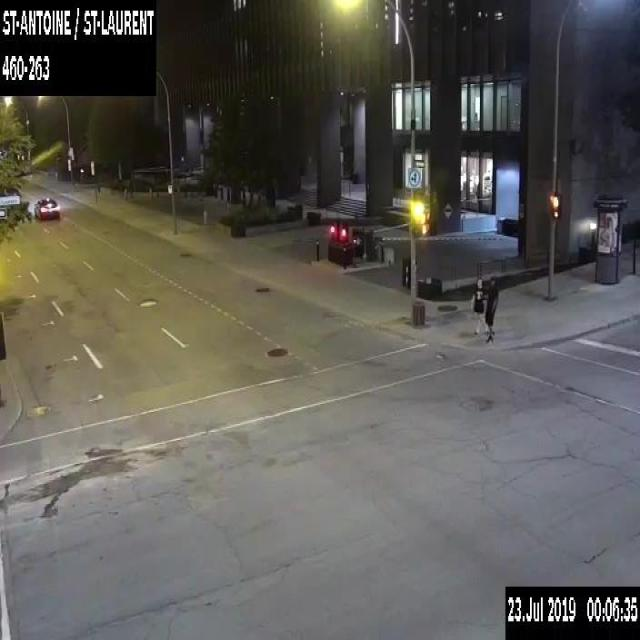pedestrian: (469, 276, 486, 332), (484, 274, 498, 342)
vehicle: (34, 196, 59, 220)
